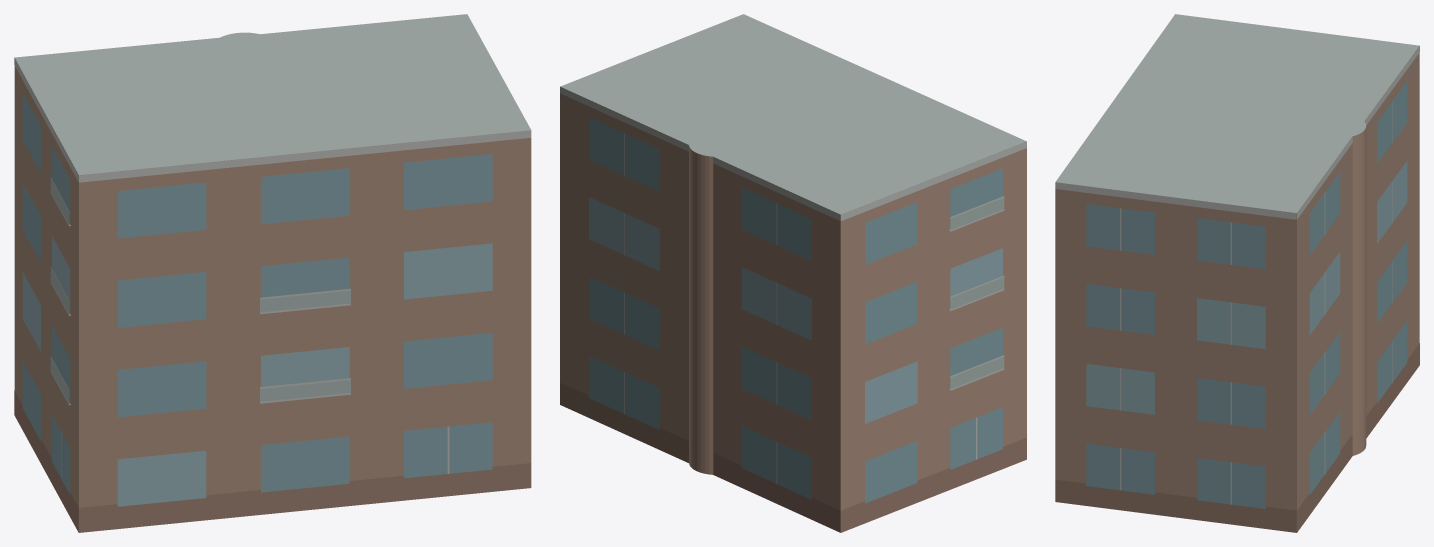
Rendered from survey-upis-32875296.glb.
3 renders of one model, left to right at view 1: azimuth 30°, elevation 25°; view 2: azimuth 150°, elevation 25°; view 3: azimuth 270°, elevation 25°, orthographic. The views are drawn at different scales.
Visible parts, largest first — view 1: survey-upis-32875296.tmp; view 2: survey-upis-32875296.tmp; view 3: survey-upis-32875296.tmp.
Part boxes in pixels (left/top/right/bottom): survey-upis-32875296.tmp: left=14, top=14, right=531, bottom=532; survey-upis-32875296.tmp: left=560, top=14, right=1026, bottom=532; survey-upis-32875296.tmp: left=1055, top=14, right=1419, bottom=532.
Bounding box in the file's own units: 15.63 × 11.69 × 12.09.
